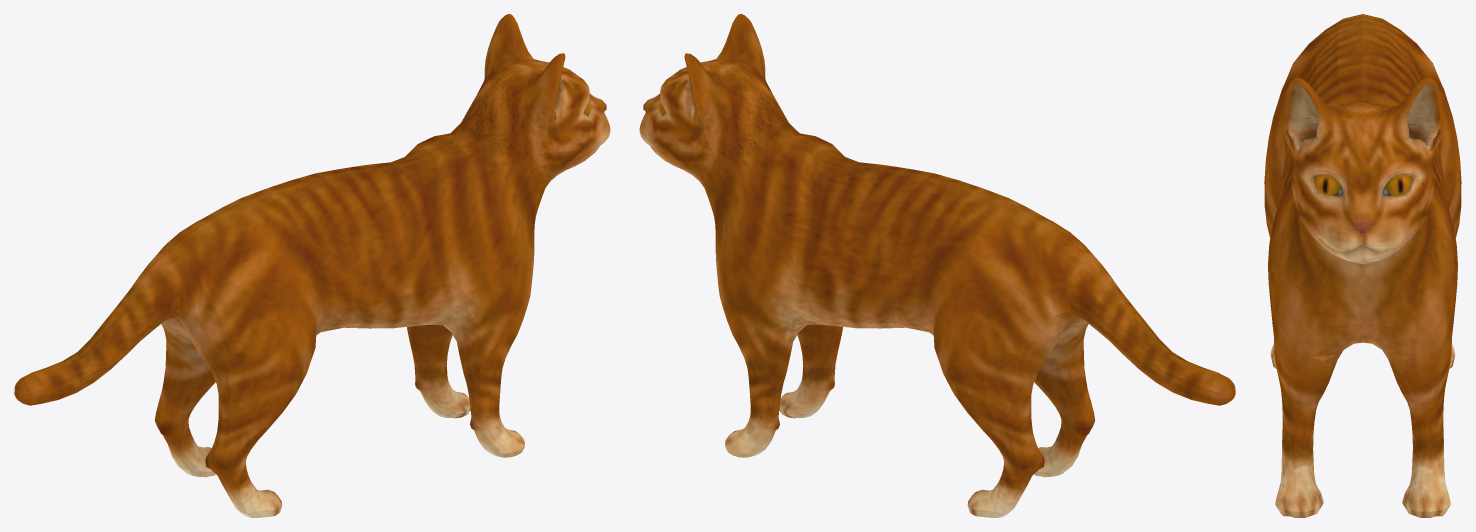
The model's file is kocka_rezava.glb.
3 views of the same model, side by side, from view 1: azimuth 30°, elevation 25°; view 2: azimuth 150°, elevation 25°; view 3: azimuth 270°, elevation 25° (orthographic). The views are drawn at different scales.
Parts seen in each view (by area): view 1: Plane_Orange_Cat_0; view 2: Plane_Orange_Cat_0; view 3: Plane_Orange_Cat_0.
Boxes of the visible parts, x1=… form: Plane_Orange_Cat_0: x1=14, y1=14, x2=610, y2=517; Plane_Orange_Cat_0: x1=639, y1=14, x2=1235, y2=517; Plane_Orange_Cat_0: x1=1264, y1=14, x2=1461, y2=517.
Size of the model in its own units: 0.4817 by 0.3 by 0.1148.
Materials: 1 (1 with a texture image).
